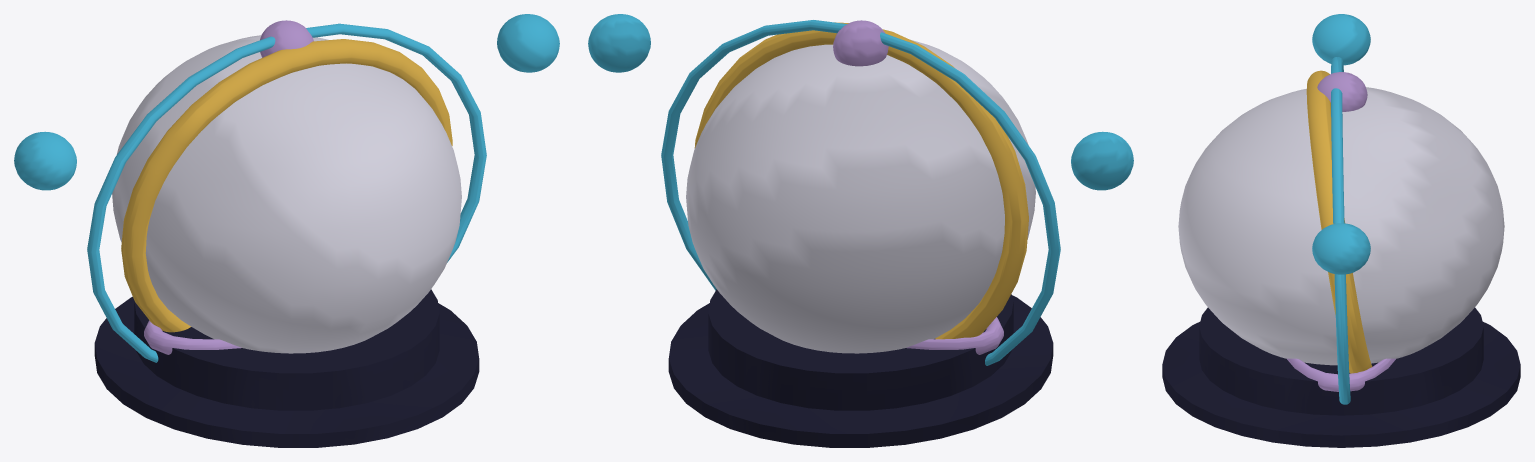
Rendered from 0038_天文图鉴_月球.glb.
The picture shows the model from 3 angles, left to right: view 1: azimuth 30°, elevation 25°; view 2: azimuth 150°, elevation 25°; view 3: azimuth 270°, elevation 25°; orthographic projection. The views are drawn at different scales.
Visible parts, largest first — view 1: card_0038; view 2: card_0038; view 3: card_0038.
Part boxes in pixels (x1,y1,x2,y2): card_0038: [14, 14, 559, 447]; card_0038: [588, 14, 1133, 447]; card_0038: [1162, 14, 1520, 447].
Size of the model in its own units: 1.59 by 1 by 1.04.
